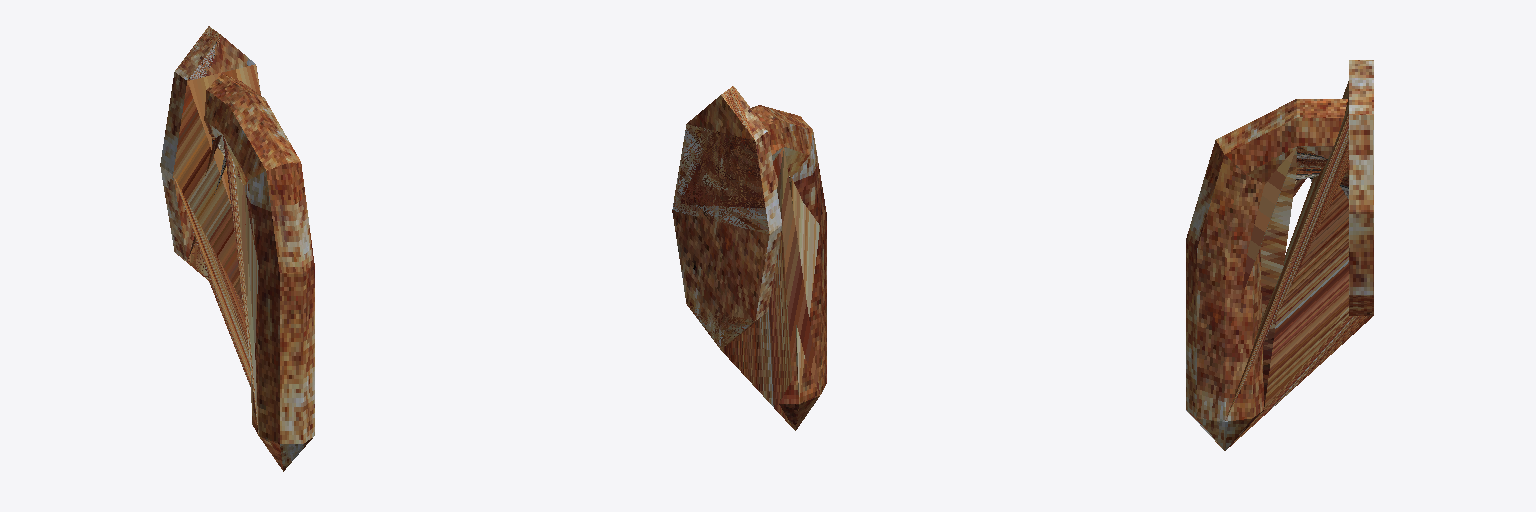
3 views of the same model, side by side, from view 1: azimuth 30°, elevation 25°; view 2: azimuth 150°, elevation 25°; view 3: azimuth 270°, elevation 25° (orthographic).
Visible parts, largest first — view 1: Cylinder001, Box001; view 2: Cylinder001, Box001; view 3: Cylinder001, Box001.
Part boxes in pixels (bbox=[...]): Cylinder001: bbox=[160, 26, 314, 471]; Box001: bbox=[173, 26, 260, 433]; Cylinder001: bbox=[672, 86, 826, 430]; Box001: bbox=[672, 86, 819, 428]; Cylinder001: bbox=[1186, 60, 1373, 450]; Box001: bbox=[1225, 81, 1372, 446].
Size of the model in its own units: 2.19 by 8.4 by 3.67.
1 materials, 1 textured.